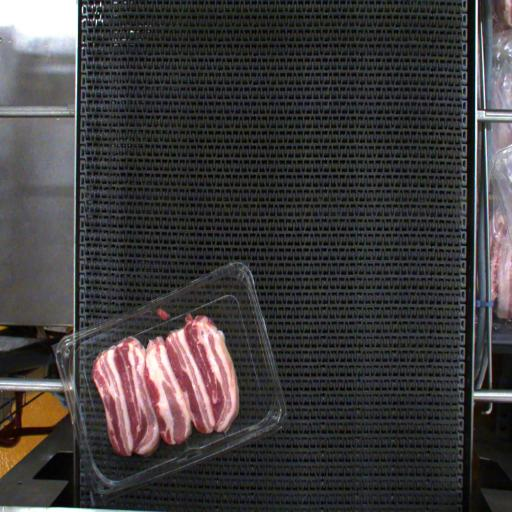loose-meat: (147, 303, 173, 325)
